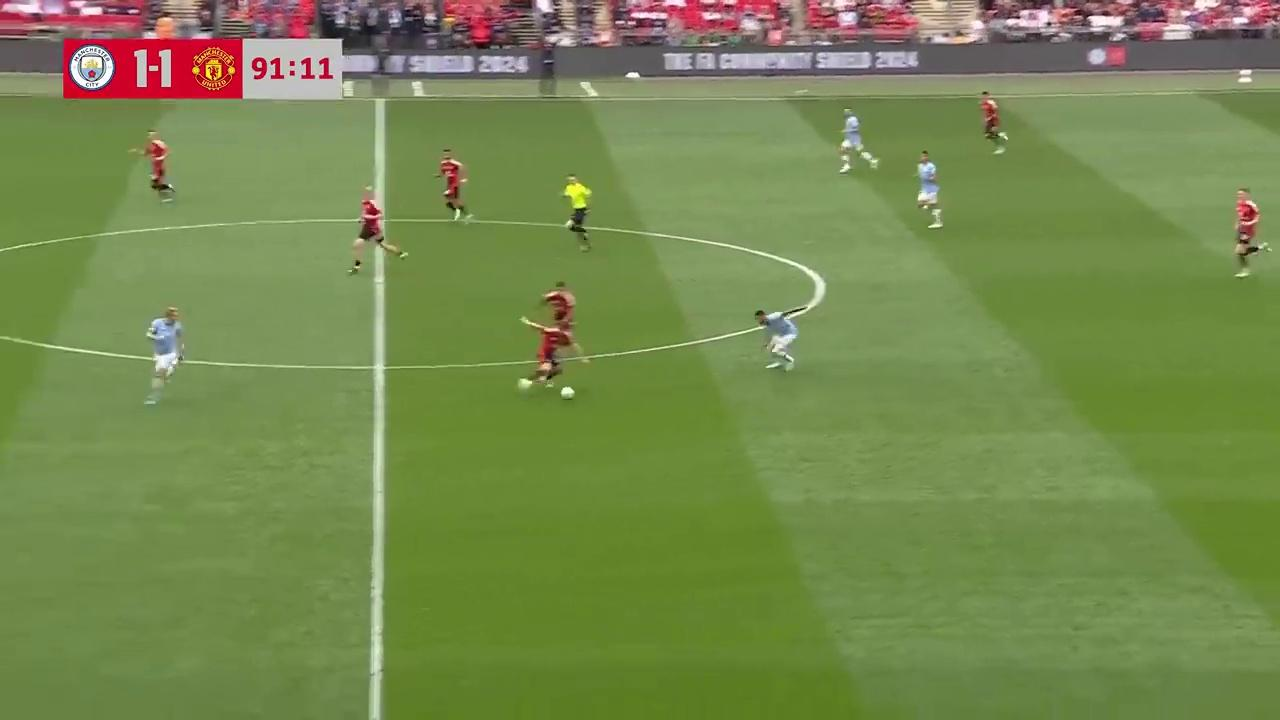ball: (560, 383, 575, 401)
player: (347, 185, 407, 275), (517, 315, 576, 396), (539, 279, 589, 356), (145, 306, 184, 402), (1232, 187, 1268, 274), (130, 131, 174, 201), (756, 307, 798, 371), (838, 108, 878, 173), (435, 148, 469, 222), (914, 150, 942, 226), (979, 91, 1008, 151)
referee: (562, 174, 592, 251)
